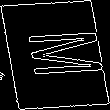M_E: (8, 30, 102, 80)
